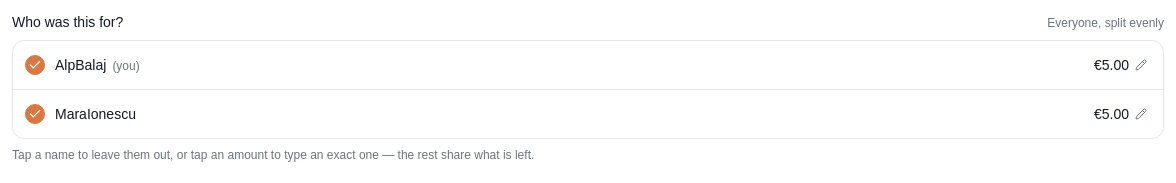
Scenario: PotAttributionField › refuses pinned amounts that add up to more than the bill, in the server's words
Step 1. Click the button named "Type an exact amount for AlpBalaj" → point(1120, 65), box [1086, 49, 1155, 81]
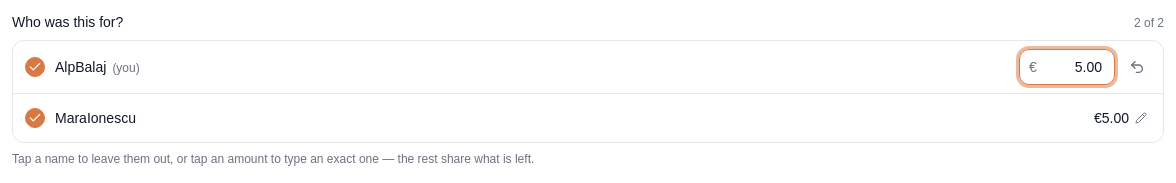
Step 2. Replace the text in the field named "AlpBalaj's share" with "11" → point(1067, 67), box [1019, 49, 1115, 85]
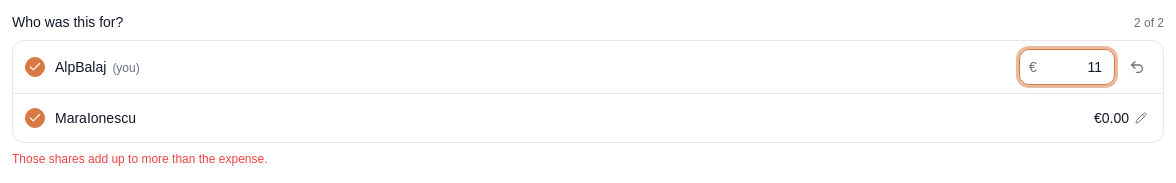
Check: the message reads "Those shares add up to more than the expense.", box [12, 152, 268, 166]
